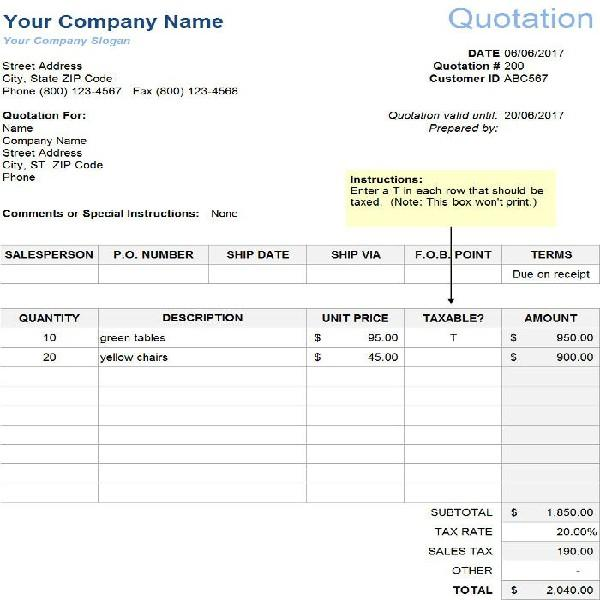test: (0, 0, 599, 599)
